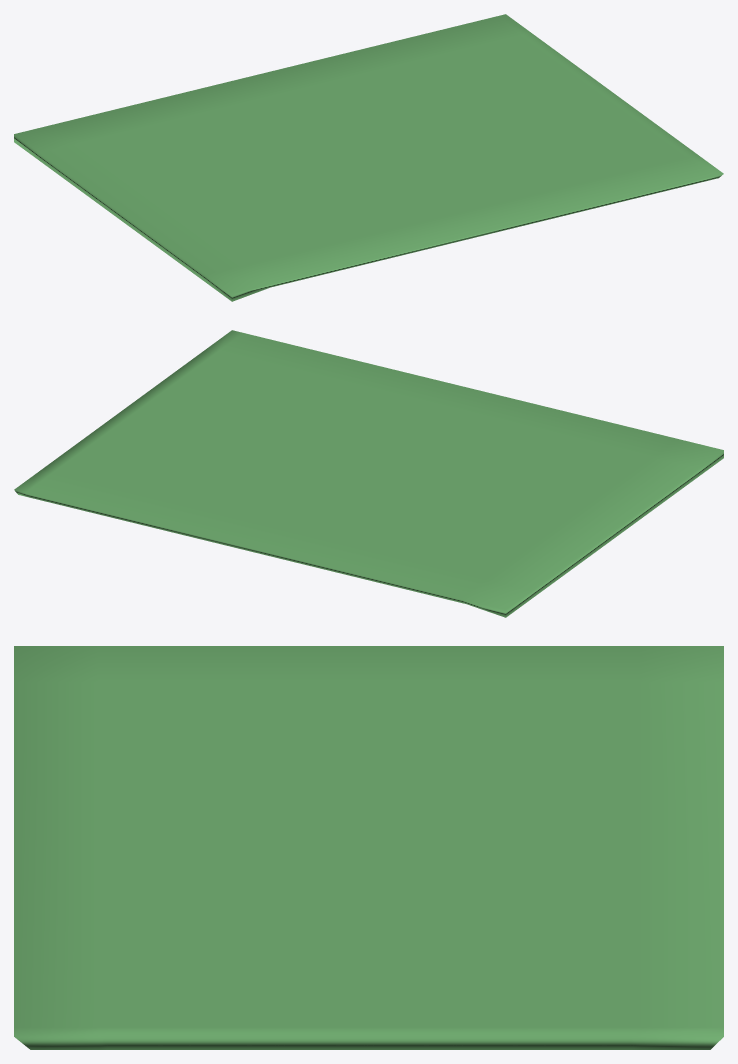
Rendered from MOD_BAR BarCeiling.fbx.
3 views of the same model, one above another, from view 1: azimuth 30°, elevation 25°; view 2: azimuth 150°, elevation 25°; view 3: azimuth 270°, elevation 25° (orthographic). The views are drawn at different scales.
Visible parts, largest first — view 1: BarCeiling; view 2: BarCeiling; view 3: BarCeiling.
Part boxes in pixels (bbox=[...]): BarCeiling: bbox=[14, 14, 723, 301]; BarCeiling: bbox=[14, 330, 723, 617]; BarCeiling: bbox=[14, 646, 723, 1049].
Size of the model in its own units: 639 by 10 by 491.
